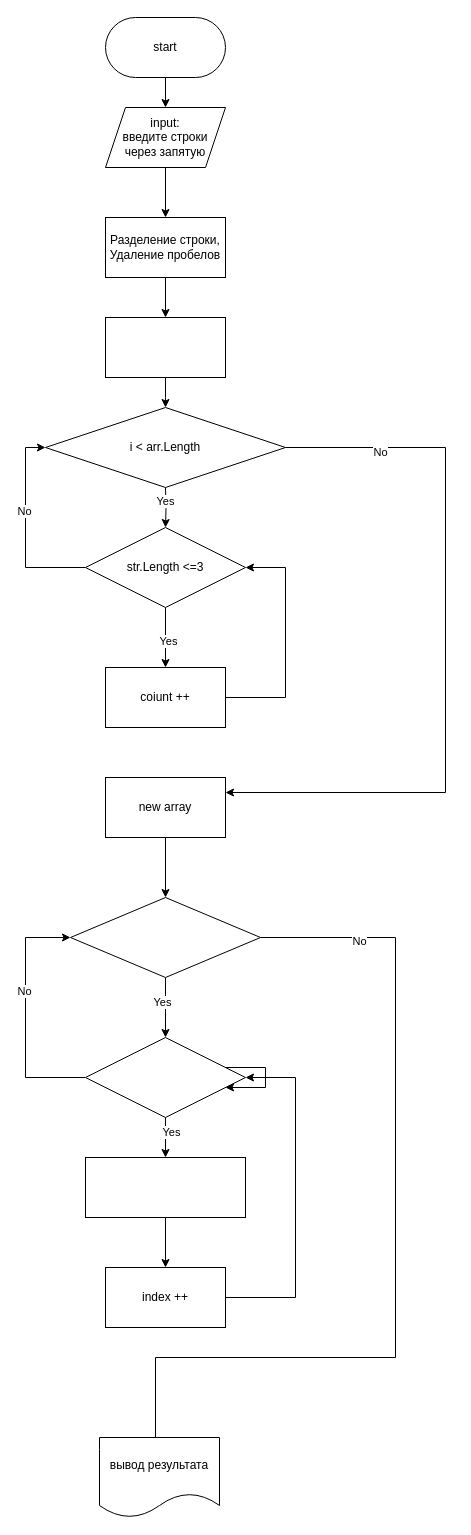
Image size: 471x1535. Some labels were removed from this diagram. The centre of each missing label's shape, as x and y in pixels:
"i < array.Length" belongs at point 165,937.
"InputArray" belongs at point 165,347.
"resString[index] = str[i]" belongs at point 165,1187.
"str.Length <= 3" belongs at point 165,1077.
